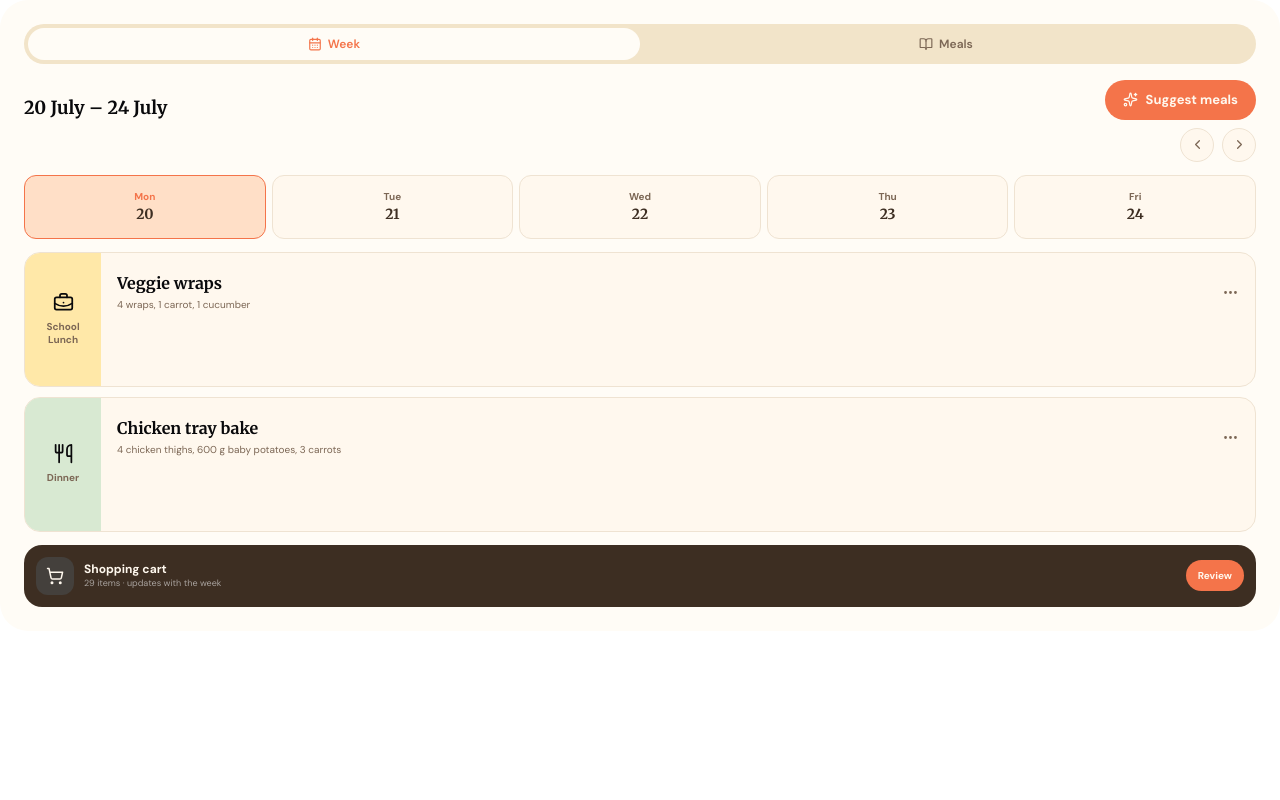
Test case: WeekRoute › keeps the mobile fixture cart open when sending is unavailable
The width and height of the screenshot is (1280, 800).
Click the button "Review". click: (1215, 576)
box: [1186, 560, 1244, 591]
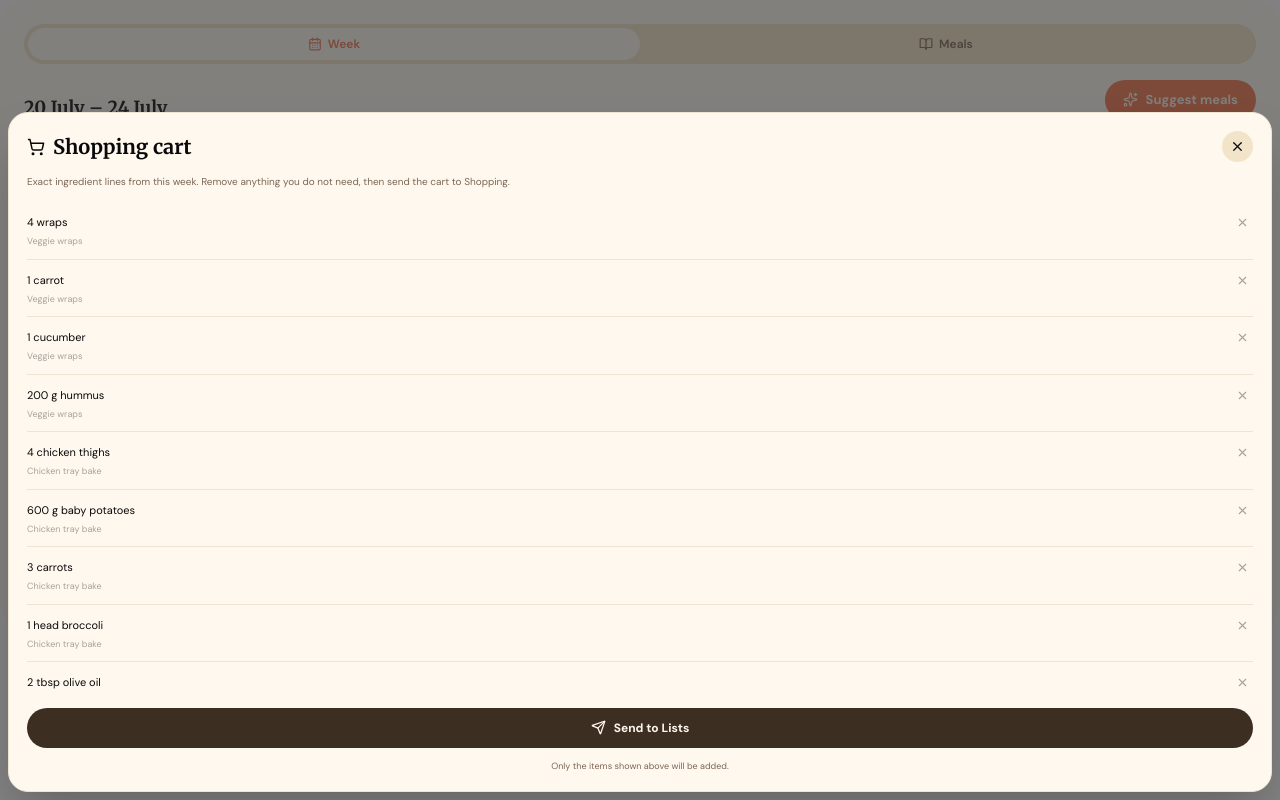
Click the button "Send to Lists". click: (640, 728)
box: [27, 708, 1253, 748]
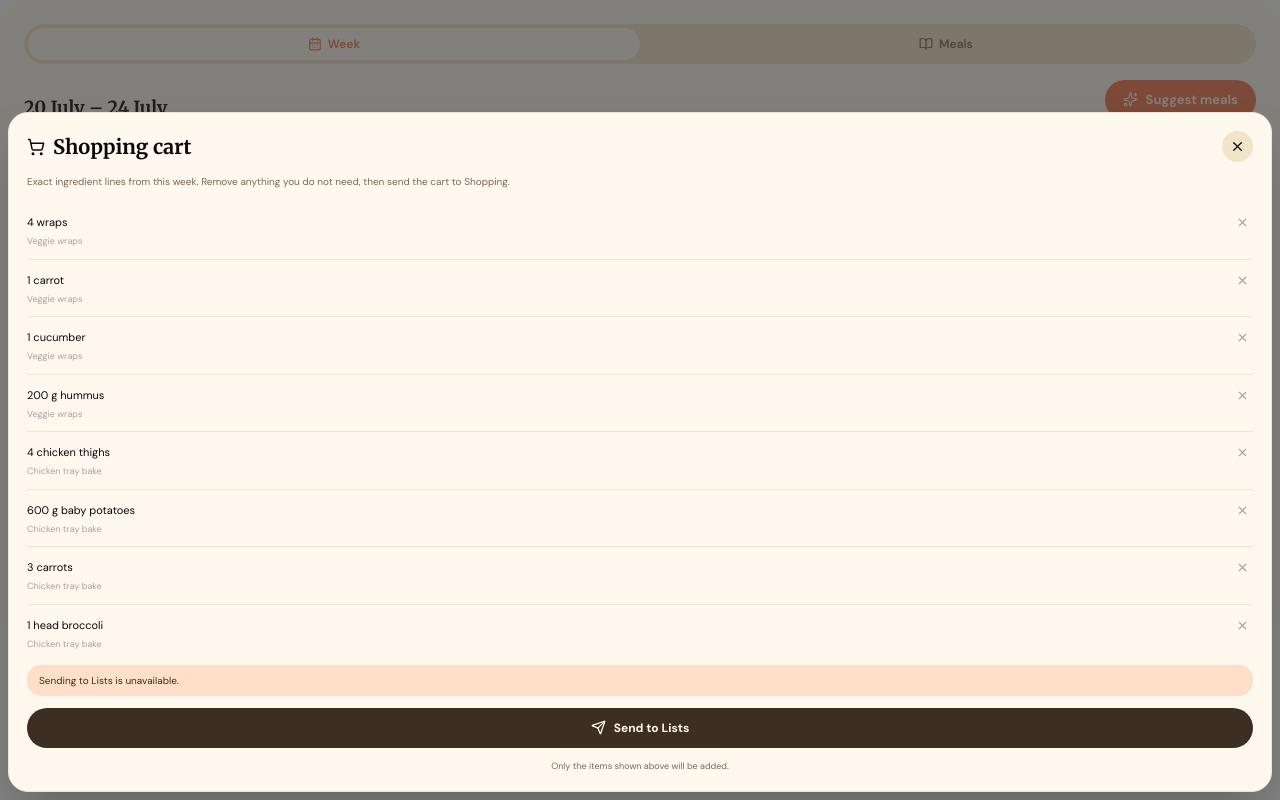
Check: the message reads "Sending to Lists is unavailable.", box [39, 674, 179, 686]
